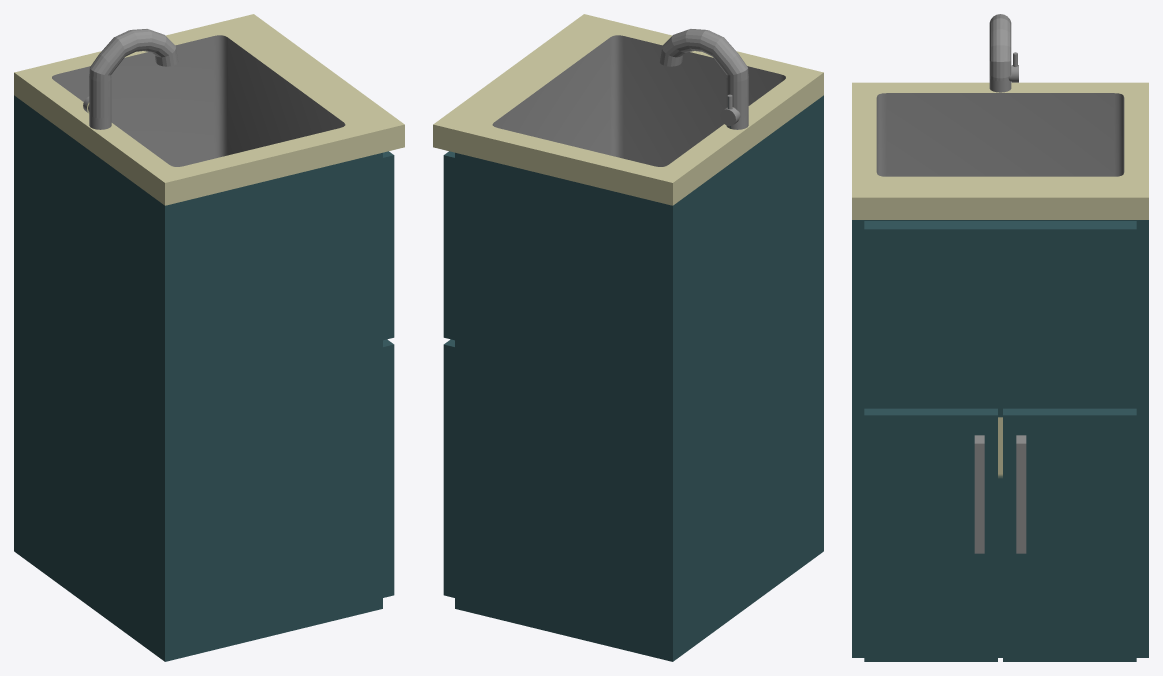
Rendered from Sink.fbx.
3 views of the same model, side by side, from view 1: azimuth 30°, elevation 25°; view 2: azimuth 150°, elevation 25°; view 3: azimuth 270°, elevation 25° (orthographic).
Parts seen in each view (by area): view 1: Sink, Faucet, LeftDoor; view 2: Sink, Faucet, RightDoor; view 3: Sink, RightDoor, LeftDoor, Faucet, Handle, Handle001.
Boxes of the visible parts, x1,y1,x2,y2 form: Sink: (14,14,404,661); Faucet: (83,29,178,129); LeftDoor: (383,339,394,597); Sink: (433,14,823,661); Faucet: (659,29,748,129); RightDoor: (443,339,454,597); Sink: (852,82,1148,657); RightDoor: (1003,408,1136,661); LeftDoor: (864,408,997,661); Faucet: (989,14,1018,92); Handle: (974,435,984,553); Handle001: (1016,435,1026,553).
Bounding box in the file's own units: 57.95 × 124 × 60.
2 materials, 2 textured.
